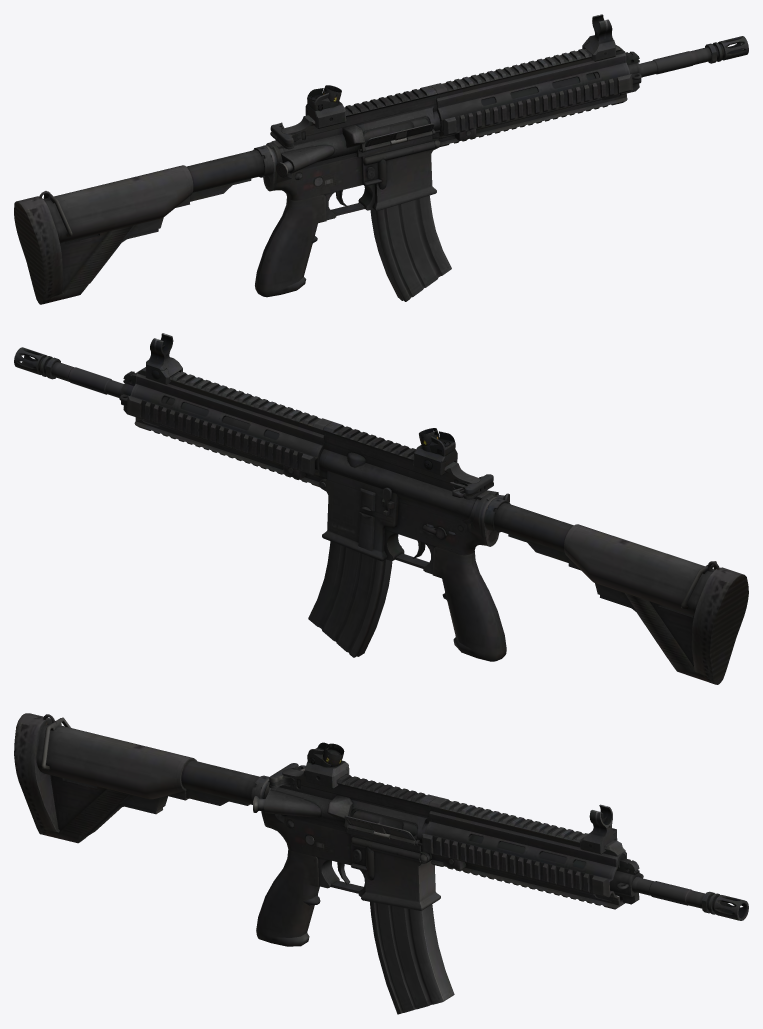
The picture shows the model from 3 angles, top to bottom: view 1: azimuth 30°, elevation 25°; view 2: azimuth 150°, elevation 25°; view 3: azimuth 330°, elevation 25°; orthographic projection. The views are drawn at different scales.
Parts seen in each view (by area): view 1: m4; view 2: m4; view 3: m4.
Boxes of the visible parts, x1=… form: m4: x1=14, y1=14, x2=748, y2=304; m4: x1=14, y1=333, x2=748, y2=684; m4: x1=14, y1=713, x2=748, y2=1014.
Size of the model in its own units: 0.9908 by 0.3271 by 0.1277.
2 materials, 2 textured.
